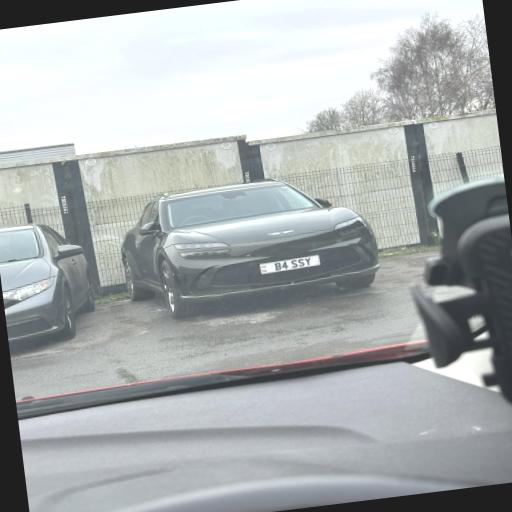numberplates: (260, 256, 320, 273)
